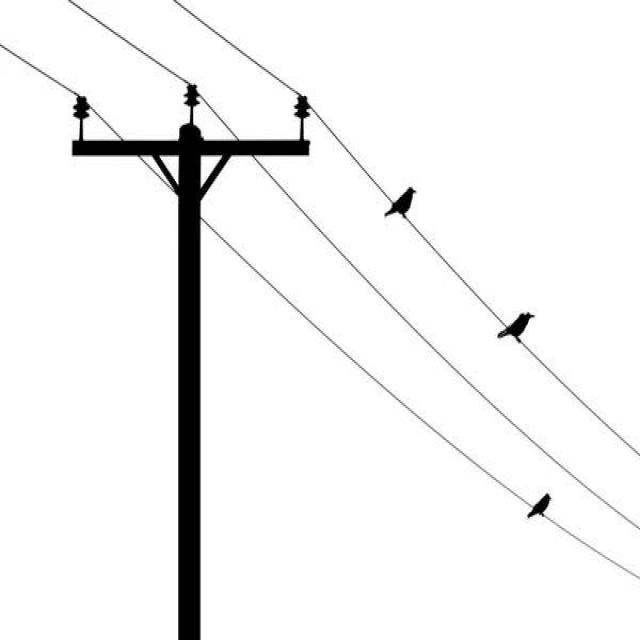Pole: (72, 85, 310, 640)
